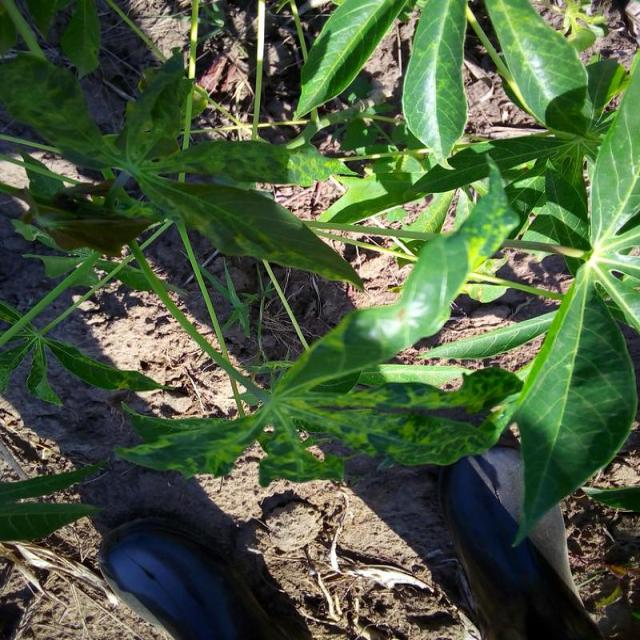cassava leaf: (113, 152, 524, 486), (510, 262, 640, 548), (485, 0, 594, 134), (294, 0, 412, 121), (402, 0, 469, 170)
